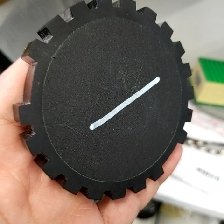gear: (11, 1, 197, 201)
missing: (16, 37, 47, 127), (148, 128, 188, 182)
